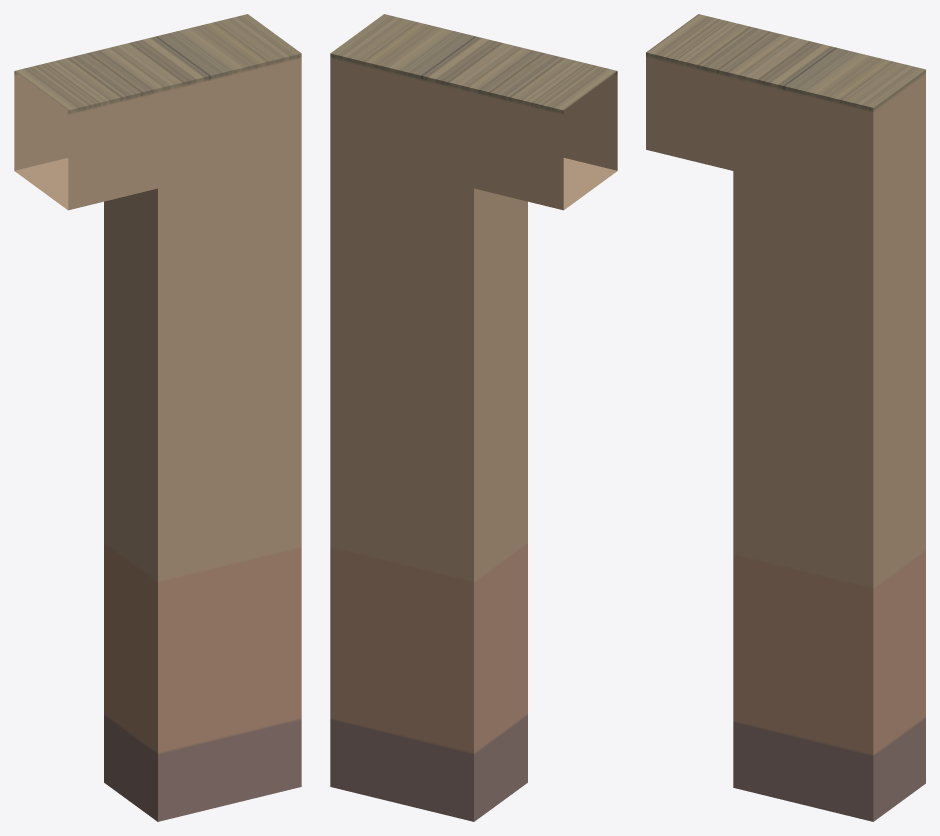
File: Wall03_1.fbx
The picture shows the model from 3 angles, left to right: view 1: azimuth 30°, elevation 25°; view 2: azimuth 150°, elevation 25°; view 3: azimuth 330°, elevation 25°; orthographic projection. The views are drawn at different scales.
Parts seen in each view (by area): view 1: Wall03_1; view 2: Wall03_1; view 3: Wall03_1.
Part boxes in pixels (<box>): Wall03_1: <box>14,14,301,821</box>; Wall03_1: <box>330,14,617,821</box>; Wall03_1: <box>646,14,925,821</box>.
Bounding box in the file's own units: 1 × 3 × 0.4.
